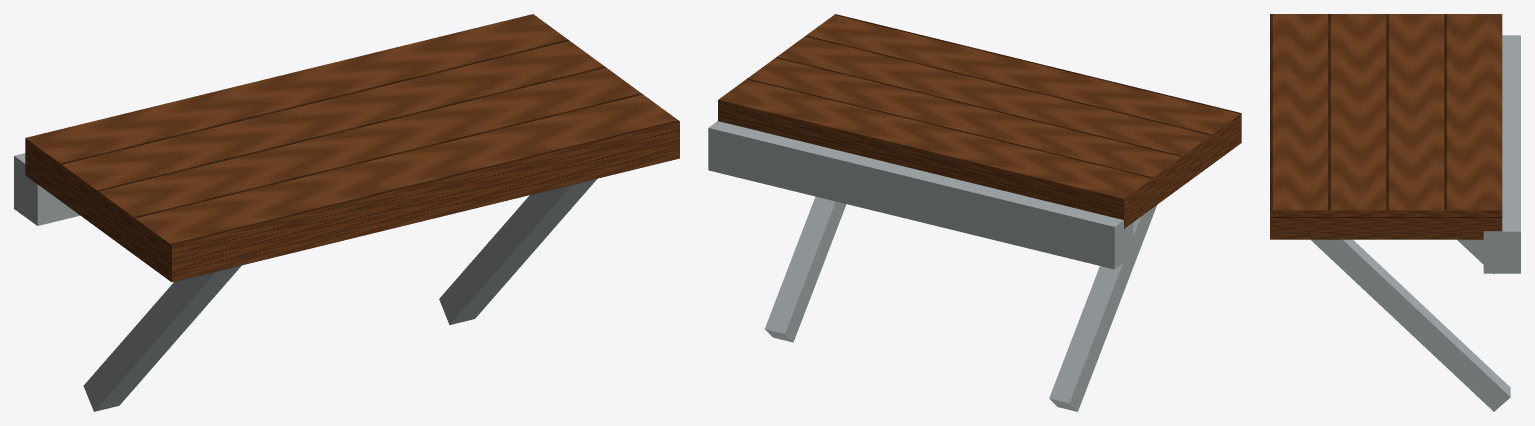
Rendered from modular-survival-base-builder-folding-wall-table-01706ecd__24265.glb.
3 renders of one model, left to right at view 1: azimuth 30°, elevation 25°; view 2: azimuth 150°, elevation 25°; view 3: azimuth 270°, elevation 25°, orthographic. The views are drawn at different scales.
Parts seen in each view (by area): view 1: folding-wall-table; view 2: folding-wall-table; view 3: folding-wall-table.
Boxes of the visible parts, bbox=[...] form: folding-wall-table: bbox=[14, 14, 679, 411]; folding-wall-table: bbox=[708, 14, 1241, 411]; folding-wall-table: bbox=[1270, 14, 1520, 411].
Size of the model in its own units: 1 by 0.5373 by 0.54.
2 materials, 1 textured.
